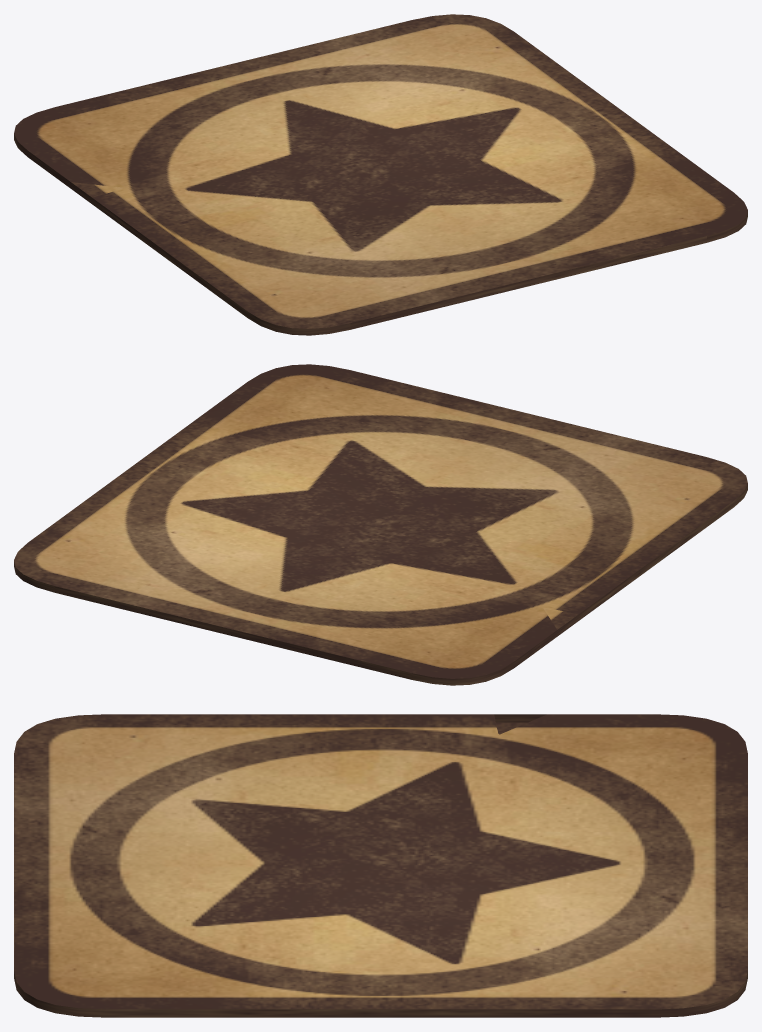
Rendered from WANTED.FBX.
3 views of the same model, one above another, from view 1: azimuth 30°, elevation 25°; view 2: azimuth 150°, elevation 25°; view 3: azimuth 270°, elevation 25° (orthographic). The views are drawn at different scales.
Parts seen in each view (by area): view 1: WANTED; view 2: WANTED; view 3: WANTED.
Part boxes in pixels (x1,y1,x2,y2): WANTED: [14, 14, 747, 335]; WANTED: [14, 364, 747, 685]; WANTED: [14, 714, 747, 1017].
Size of the model in its own units: 9.29 by 0.1218 by 9.76.
